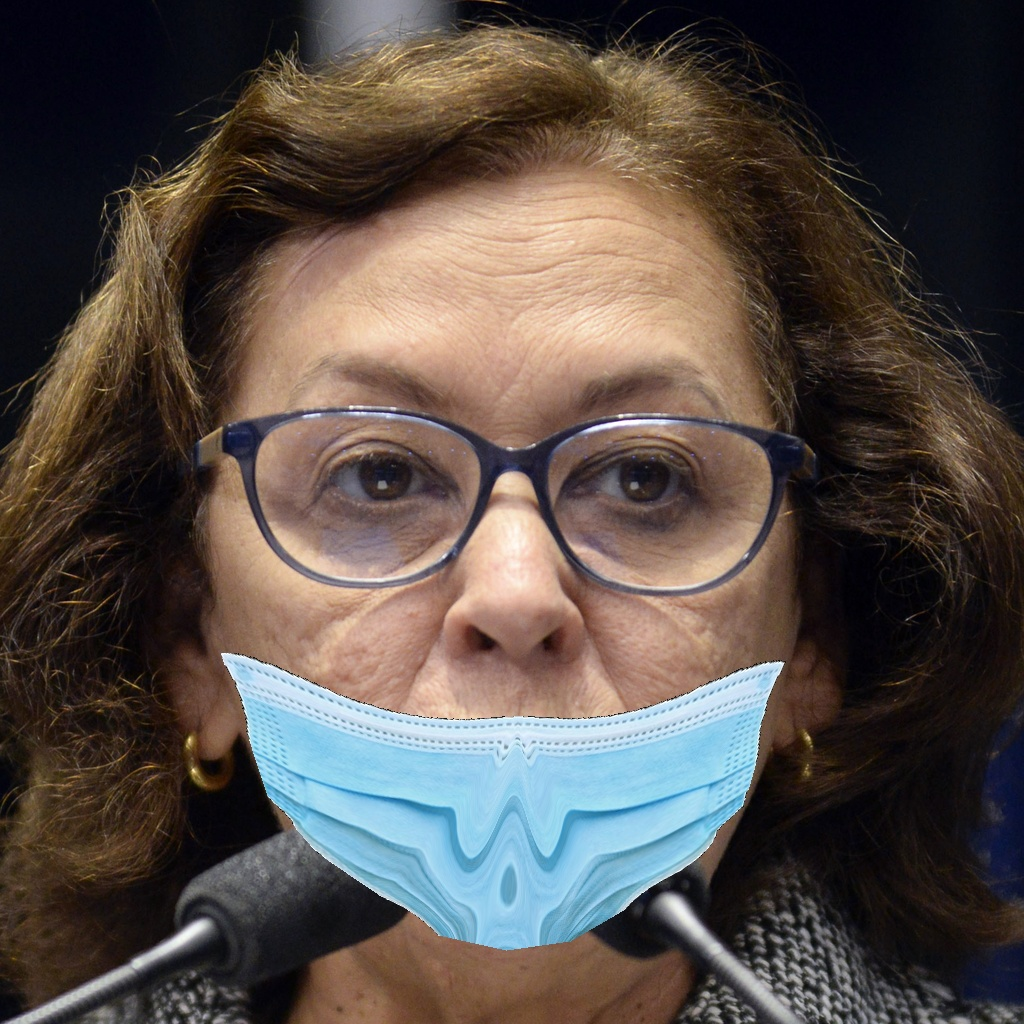mascarilla_mal_puesta: (197, 328, 802, 968)
